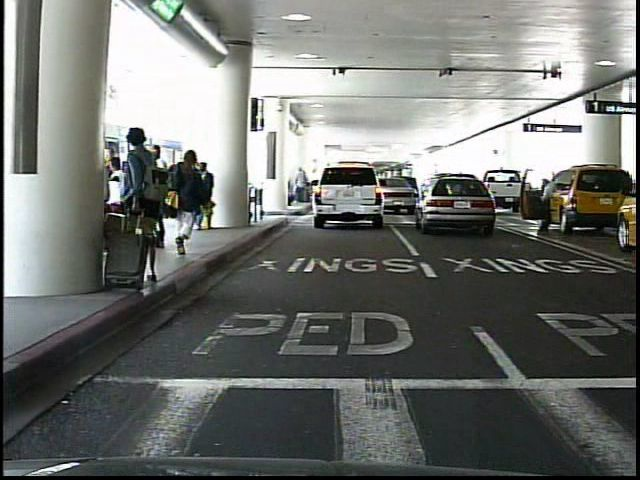person: (115, 123, 166, 287), (168, 146, 207, 260), (147, 145, 175, 239), (179, 157, 207, 234), (534, 177, 557, 235)
